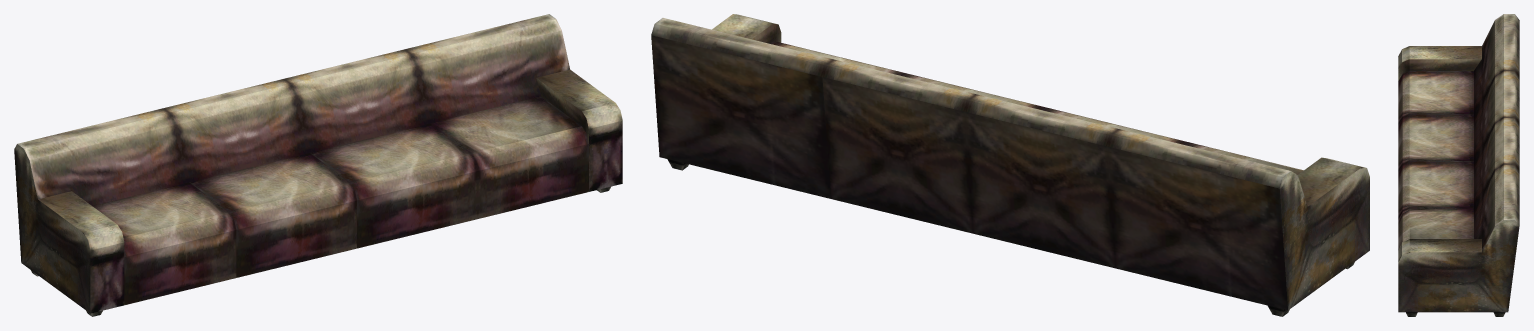
File: slum_couche01.fbx
3 renders of one model, left to right at view 1: azimuth 30°, elevation 25°; view 2: azimuth 150°, elevation 25°; view 3: azimuth 270°, elevation 25°, orthographic. The views are drawn at different scales.
Visible parts, largest first — view 1: mesh_0; view 2: mesh_0; view 3: mesh_0.
Boxes of the visible parts, x1=… form: mesh_0: x1=14, y1=14, x2=622, y2=316; mesh_0: x1=651, y1=14, x2=1369, y2=316; mesh_0: x1=1398, y1=14, x2=1519, y2=316.
Size of the model in its own units: 441 by 99.5 by 109.
Materials: 1 (1 with a texture image).
